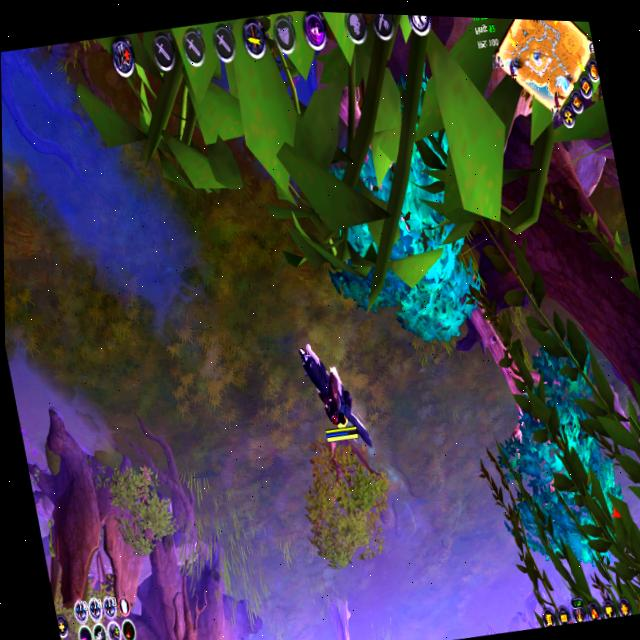ore: (635, 541, 640, 613)
red: (292, 322, 381, 475)
wisp caged: (275, 10, 502, 376), (442, 231, 638, 602), (312, 582, 367, 640)
